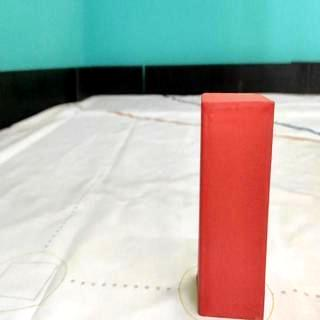redbox: (198, 94, 272, 320)
